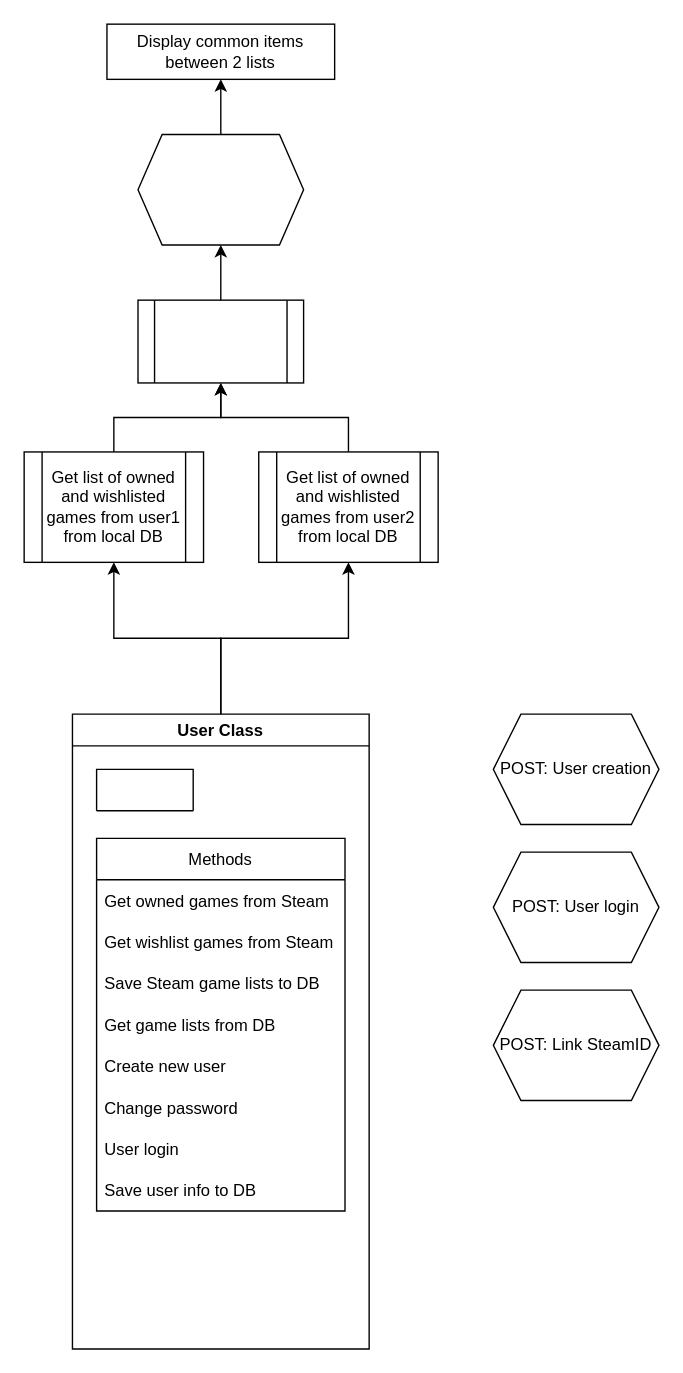
The diagram is 683 pixels wide and 1373 high, and some of its shapes have lost their labels. Here are the shapes that lost their labels. From the top down, the centre of each, then its label:
At [220,189]: "GET: list to be displayed".
At [220,341]: "Create new list with common elements of 2 input lists".
At [144,789]: "Data".
